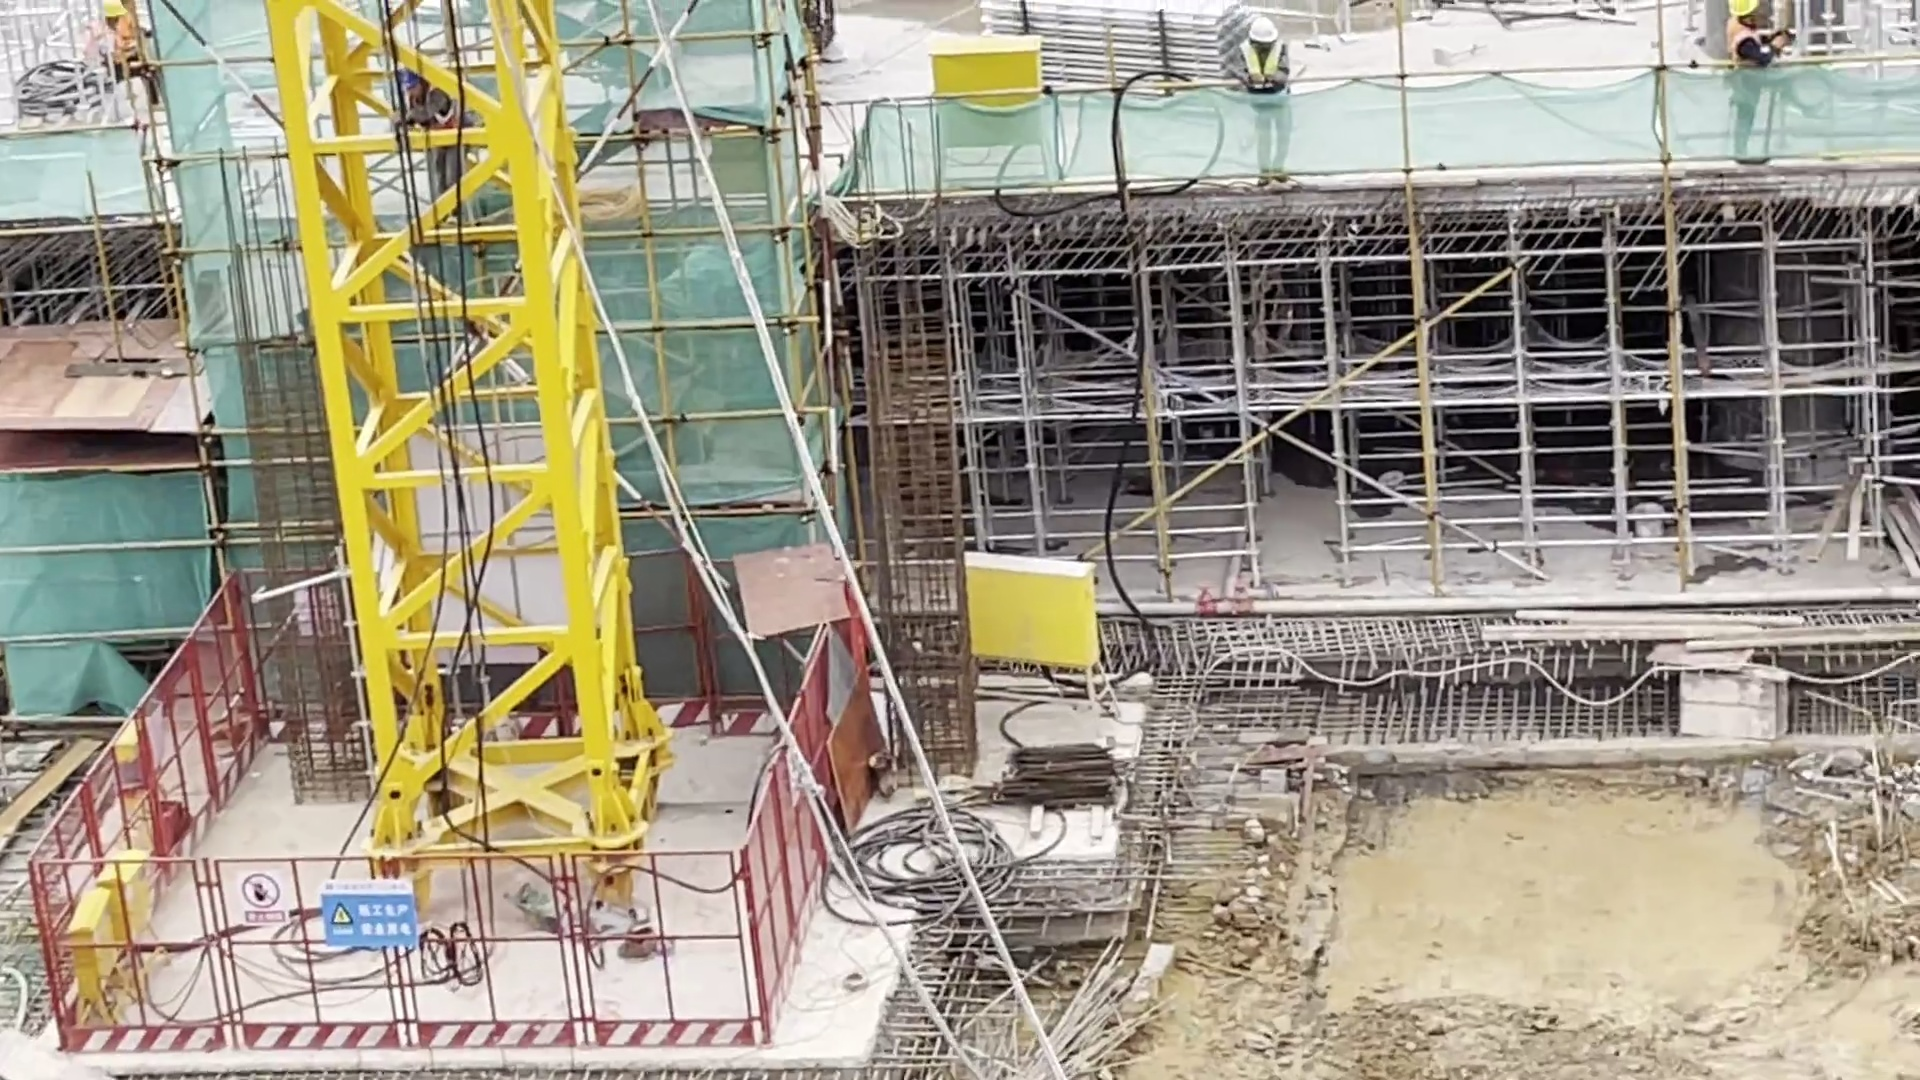helmet: (1249, 17, 1281, 44)
person: (1715, 4, 1788, 174), (1231, 22, 1298, 184)
vest: (1722, 19, 1782, 91), (1241, 49, 1297, 104)
